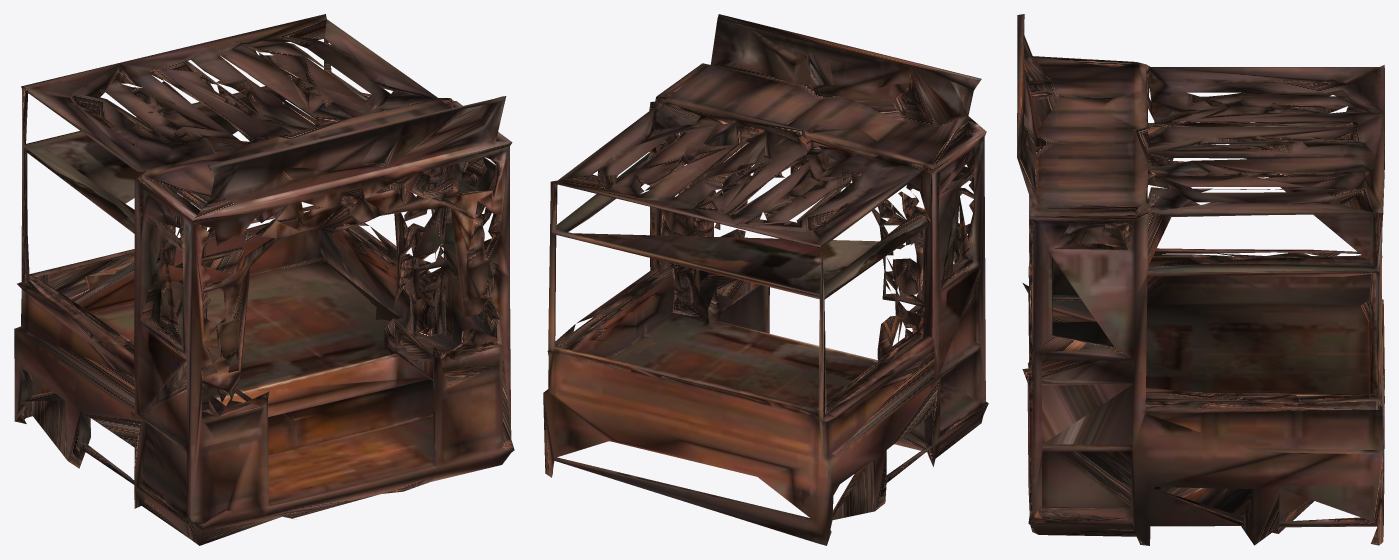
File: pr_bed.glb
The picture shows the model from 3 angles, left to right: view 1: azimuth 30°, elevation 25°; view 2: azimuth 150°, elevation 25°; view 3: azimuth 270°, elevation 25°; orthographic projection. The views are drawn at different scales.
Size of the model in its own units: 1.73 by 1.99 by 1.72.
Materials: 1 (1 with a texture image).
